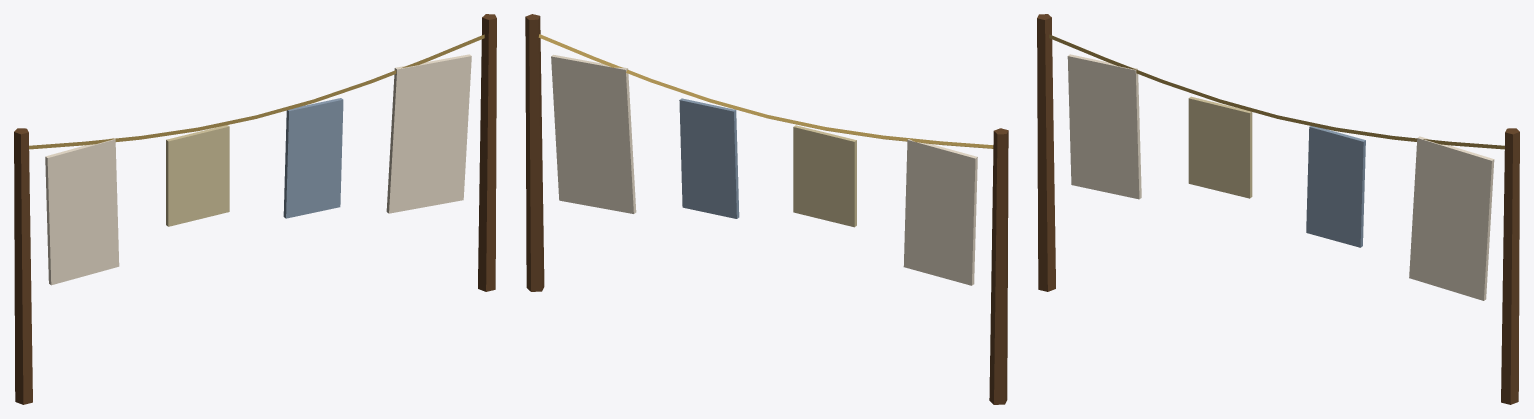
File: prop_life_clothesline.glb
3 views of the same model, side by side, from view 1: azimuth 30°, elevation 25°; view 2: azimuth 150°, elevation 25°; view 3: azimuth 330°, elevation 25° (orthographic).
Parts seen in each view (by area): view 1: prop_life_clothesline; view 2: prop_life_clothesline; view 3: prop_life_clothesline.
Boxes of the visible parts, <box> form: prop_life_clothesline: <box>14,14,496,404</box>; prop_life_clothesline: <box>525,14,1008,404</box>; prop_life_clothesline: <box>1037,14,1519,404</box>.
Bounding box in the file's own units: 3.54 × 1.9 × 0.1085.
